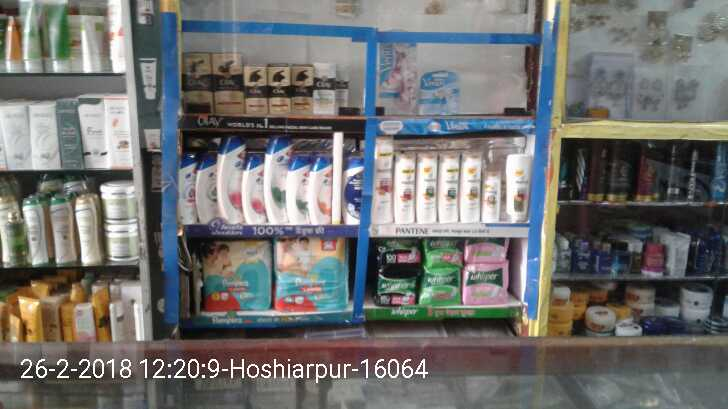venus: (383, 42, 416, 116), (416, 70, 458, 116)
